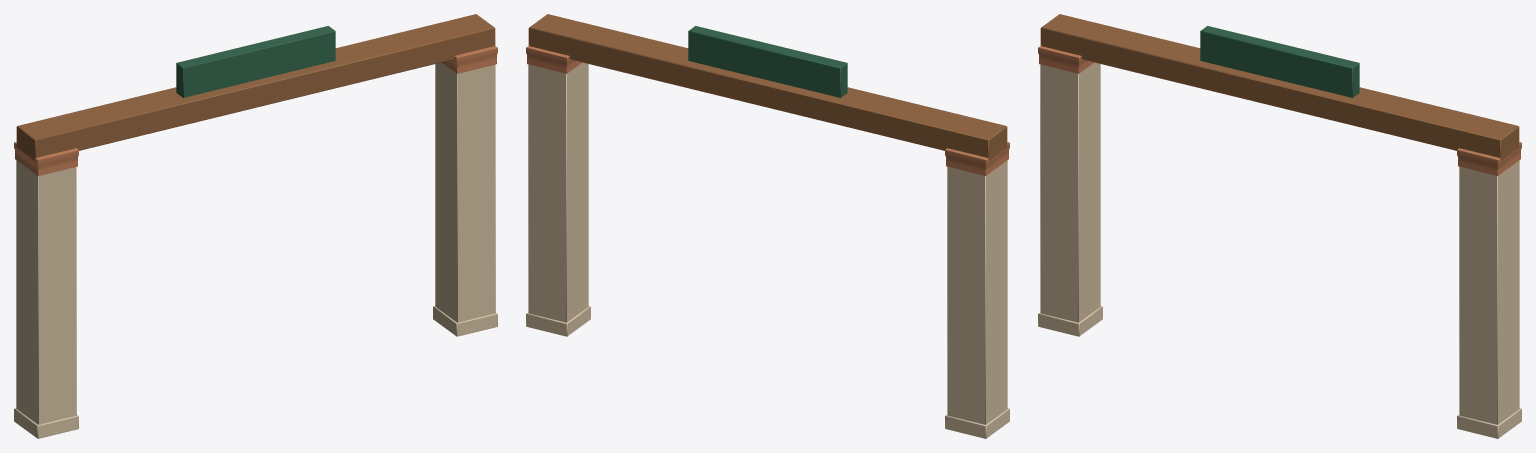
File: campus-checkpoint.glb
3 views of the same model, side by side, from view 1: azimuth 30°, elevation 25°; view 2: azimuth 150°, elevation 25°; view 3: azimuth 330°, elevation 25° (orthographic).
Visible parts, largest first — view 1: Checkpoint; view 2: Checkpoint; view 3: Checkpoint.
Boxes of the visible parts, bbox=[...] form: Checkpoint: bbox=[14, 14, 497, 438]; Checkpoint: bbox=[526, 14, 1009, 438]; Checkpoint: bbox=[1038, 14, 1521, 438].
Size of the model in its own units: 5 by 3.4 by 0.45.
